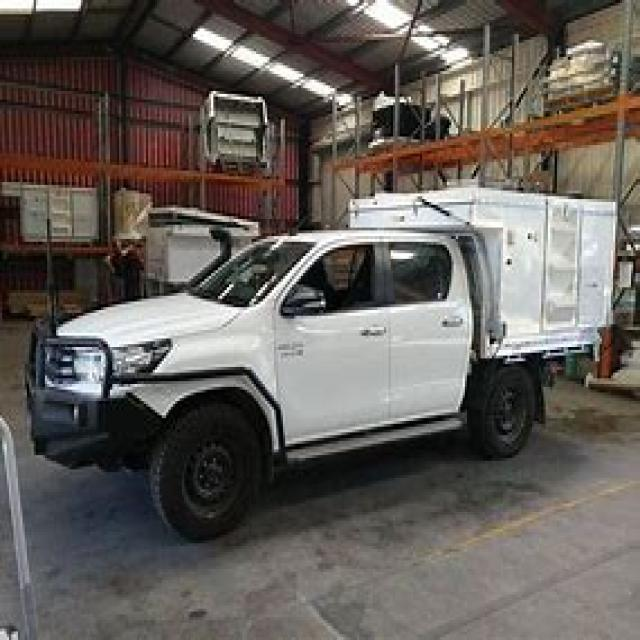light_vehicle: (20, 180, 624, 540)
